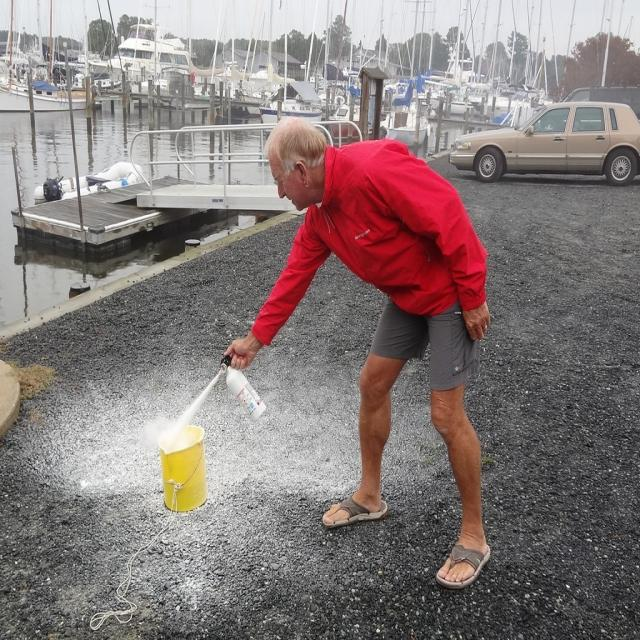car: (464, 86, 634, 178)
